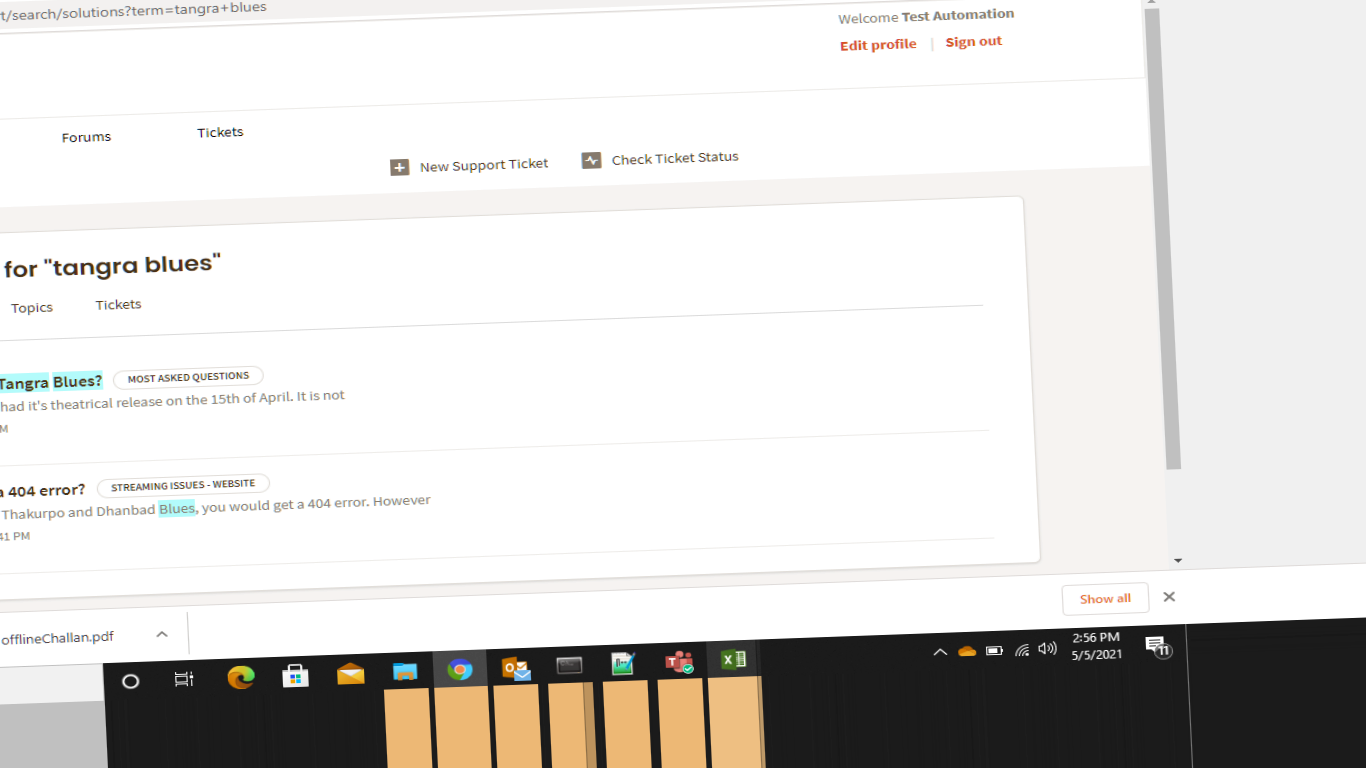profileicon: (842, 31, 923, 56)
